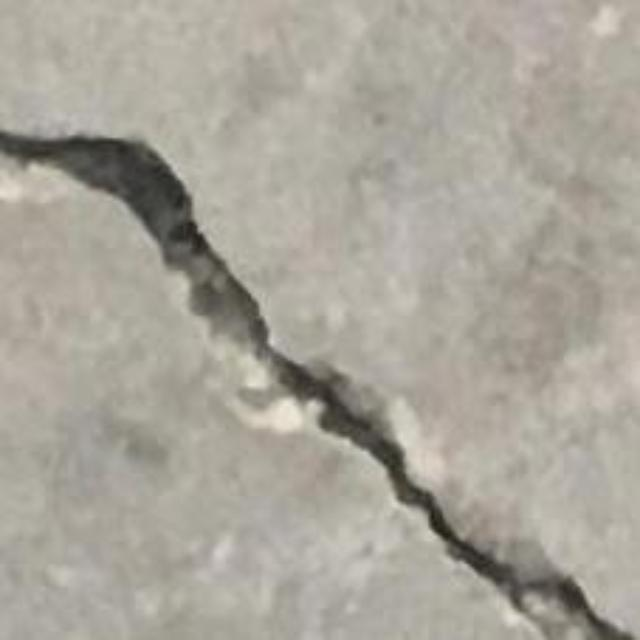crack: (0, 130, 634, 639)
